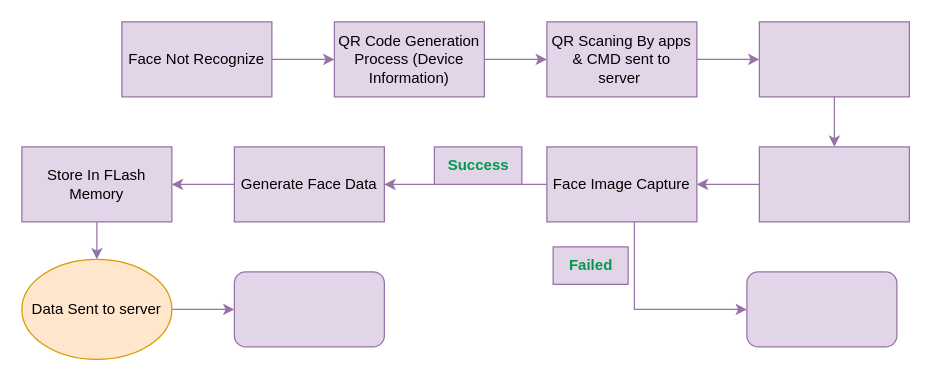
The diagram is 931 pixels wide and 381 high, and some of its shapes have lost their labels. The shapes that lost their labels are listed below. From the top down, each one's box as (x1, y1, x2, y2) in pixels, then its label:
(758, 21, 909, 97): CMD received by FR Device
(758, 146, 909, 222): Dialogue Box Pop upo
(233, 271, 384, 347): Success Voice message to User
(746, 271, 897, 347): TRY AGAIN!!!
